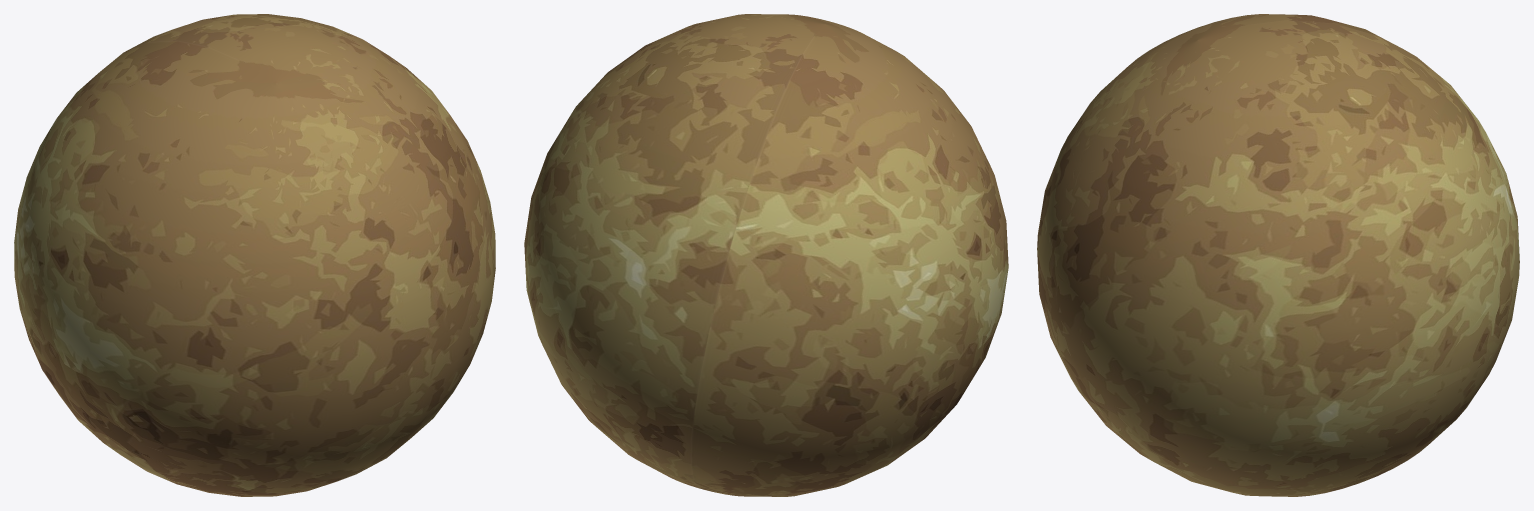
File: venus.glb
3 renders of one model, left to right at view 1: azimuth 30°, elevation 25°; view 2: azimuth 150°, elevation 25°; view 3: azimuth 270°, elevation 25°, orthographic.
Visible parts, largest first — view 1: Venus; view 2: Venus; view 3: Venus.
Part boxes in pixels (bbox=[...]): Venus: bbox=[14, 14, 495, 496]; Venus: bbox=[524, 14, 1008, 496]; Venus: bbox=[1037, 14, 1519, 496].
Size of the model in its own units: 0.9119 by 0.9181 by 0.9151.
1 material, 1 textured.
